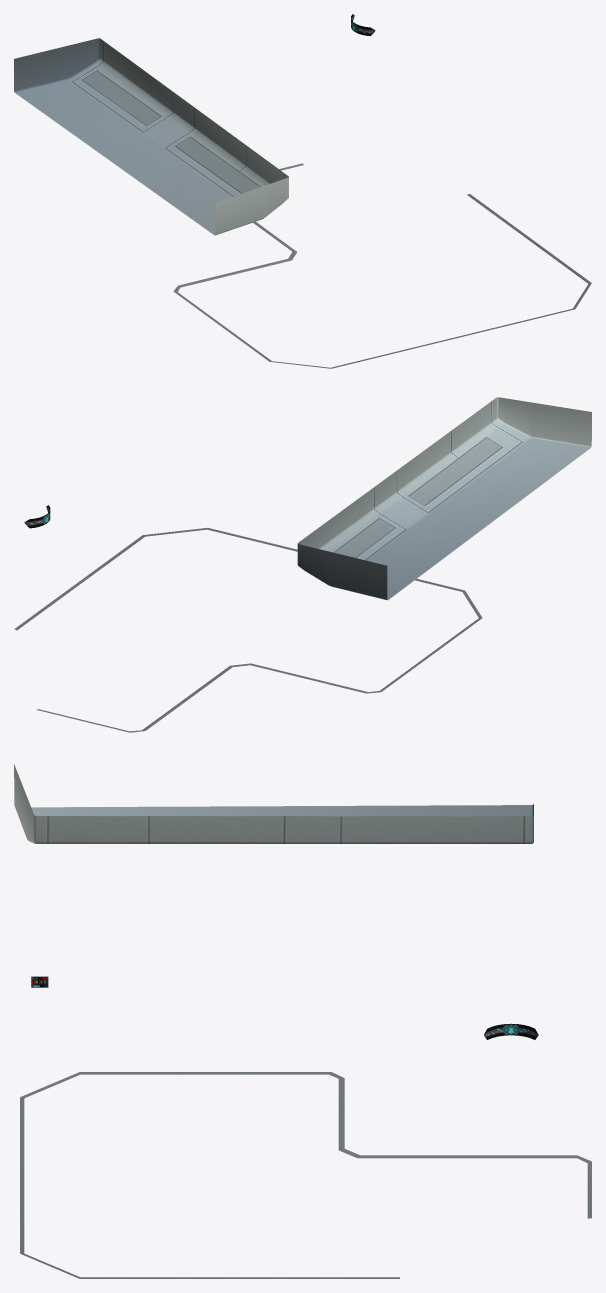
The model's file is Pico_01_1_R.fbx.
The picture shows the model from 3 angles, top to bottom: view 1: azimuth 30°, elevation 25°; view 2: azimuth 150°, elevation 25°; view 3: azimuth 270°, elevation 25°; orthographic projection. The views are drawn at different scales.
Visible parts, largest first — view 1: Pico_01_1_DaLiang, jinshubian; view 2: Pico_01_1_DaLiang, jinshubian; view 3: Pico_01_1_DaLiang, jinshubian.
Part boxes in pixels (x1,y1,x2,y2): Pico_01_1_DaLiang: (14,38,288,235); jinshubian: (173,163,591,368); Pico_01_1_DaLiang: (297,397,591,600); jinshubian: (14,527,482,732); Pico_01_1_DaLiang: (14,764,533,843); jinshubian: (20,1072,591,1278).
Size of the model in its own units: 861 by 400 by 810.
